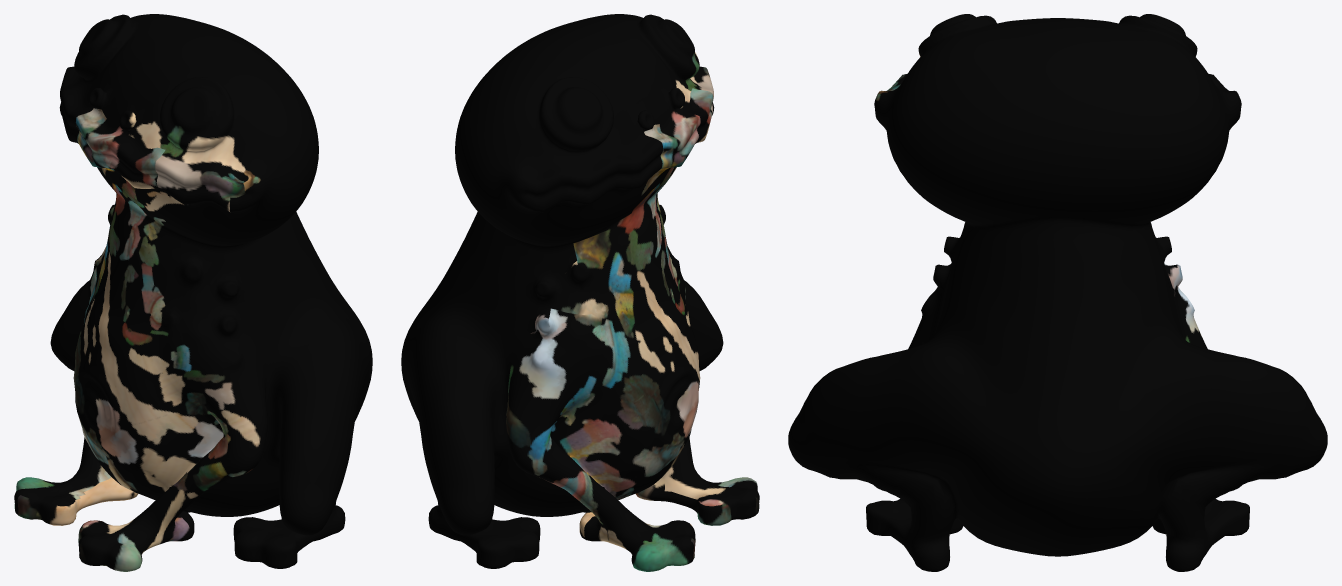
The model's file is froggo_export.obj.
3 renders of one model, left to right at view 1: azimuth 30°, elevation 25°; view 2: azimuth 150°, elevation 25°; view 3: azimuth 270°, elevation 25°, orthographic. The views are drawn at different scales.
Visible parts, largest first — view 1: zaba_remesh; view 2: zaba_remesh; view 3: zaba_remesh.
Boxes of the visible parts, x1,y1,x2,y2 form: zaba_remesh: [14, 14, 372, 571]; zaba_remesh: [401, 14, 759, 571]; zaba_remesh: [788, 14, 1327, 571].
Bounding box in the file's own units: 64.66 × 91.86 × 90.15.
